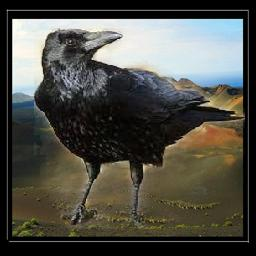Crow: (35, 29, 246, 230)
